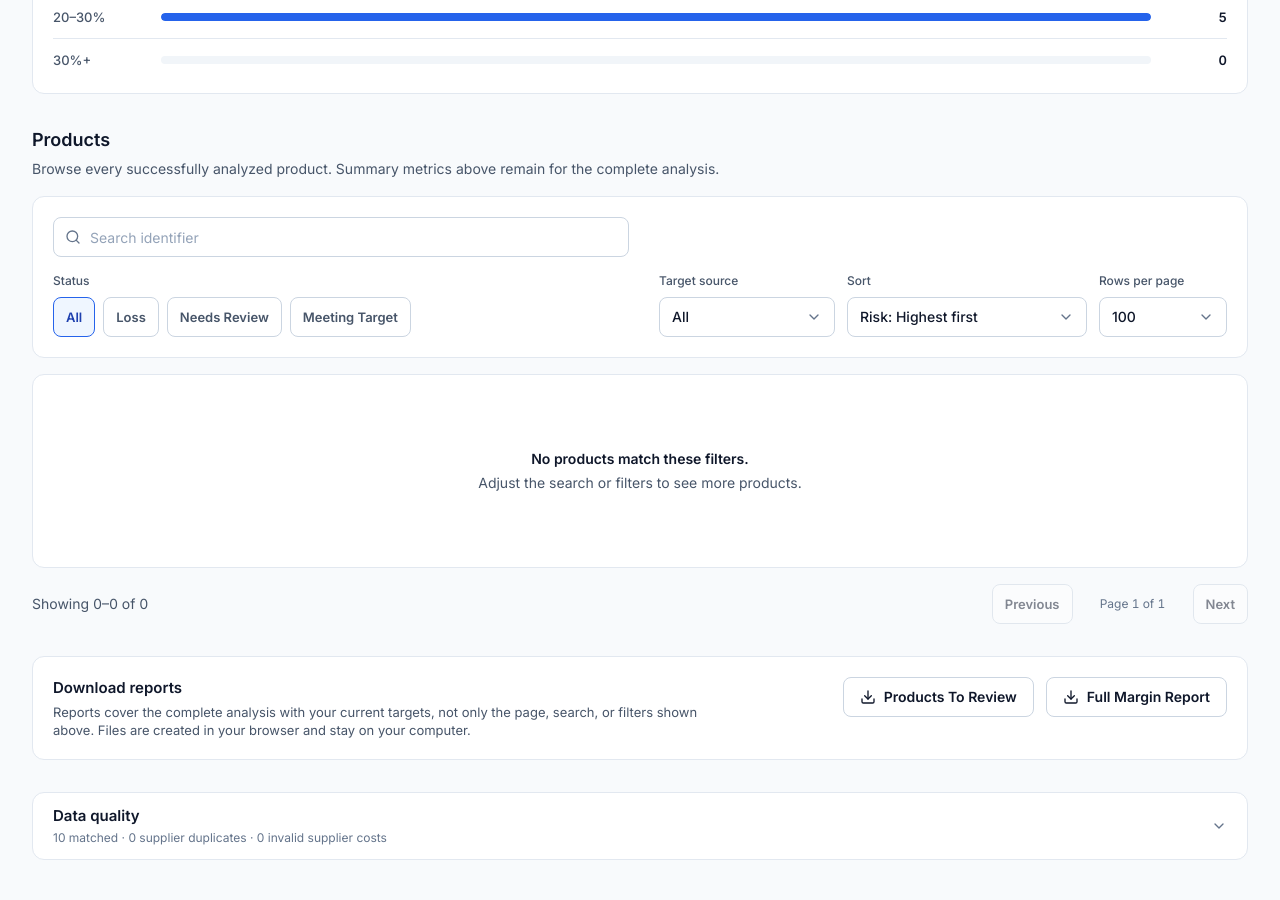
Test: report export controls › exports with the current capabilities and reports the downloaded file
This screenshot has width=1280, height=900.
(page scrolled)
Expected: the text "not only the page, search, or filters shown above" is shown, [53,704,697,738]
Click the button "Full Margin Report". click: (1136, 697)
box: [1046,677,1227,717]
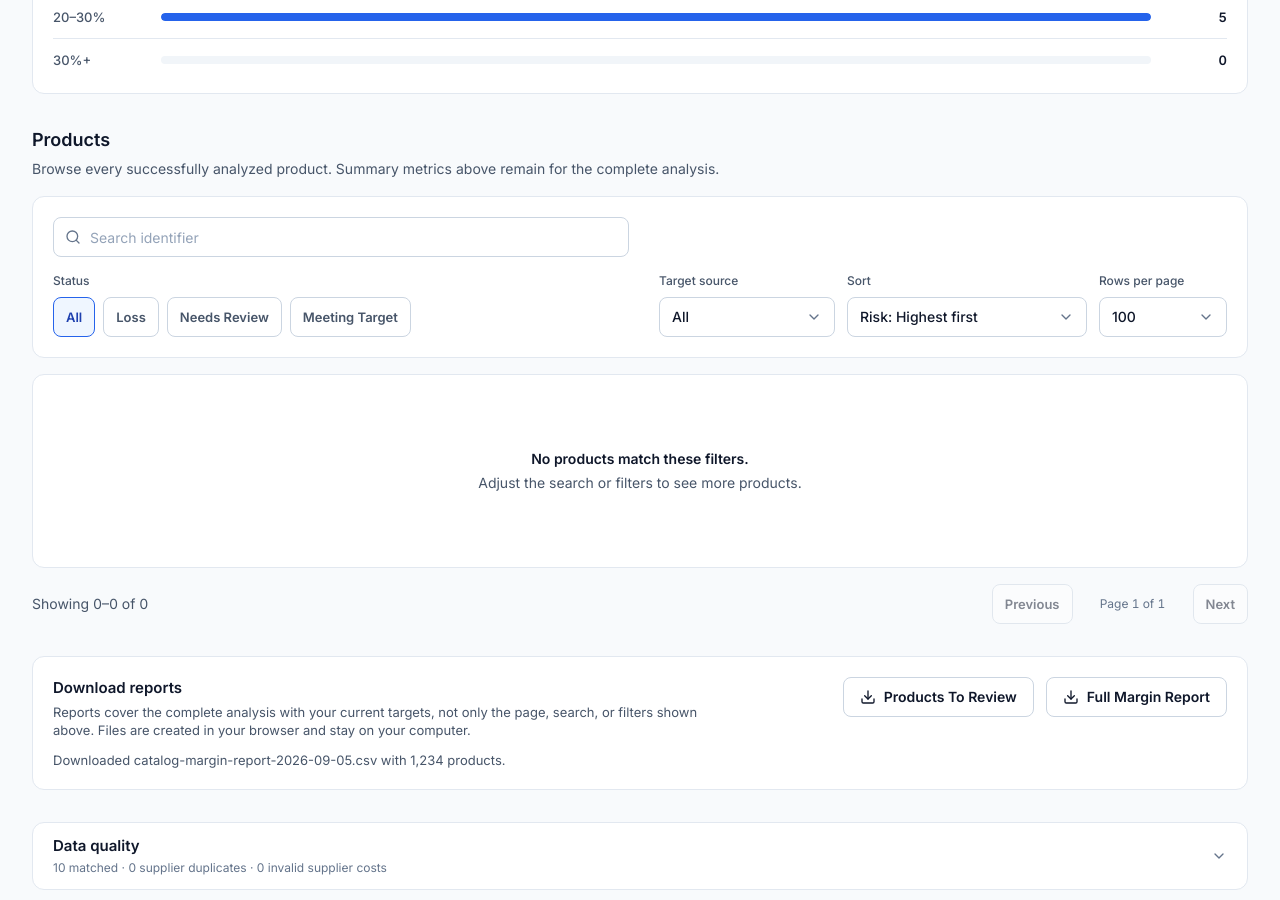
Expected: the text "Downloaded catalog-margin-report-2026-09-05.csv with 1,234 products." is shown, [53,752,506,768]
